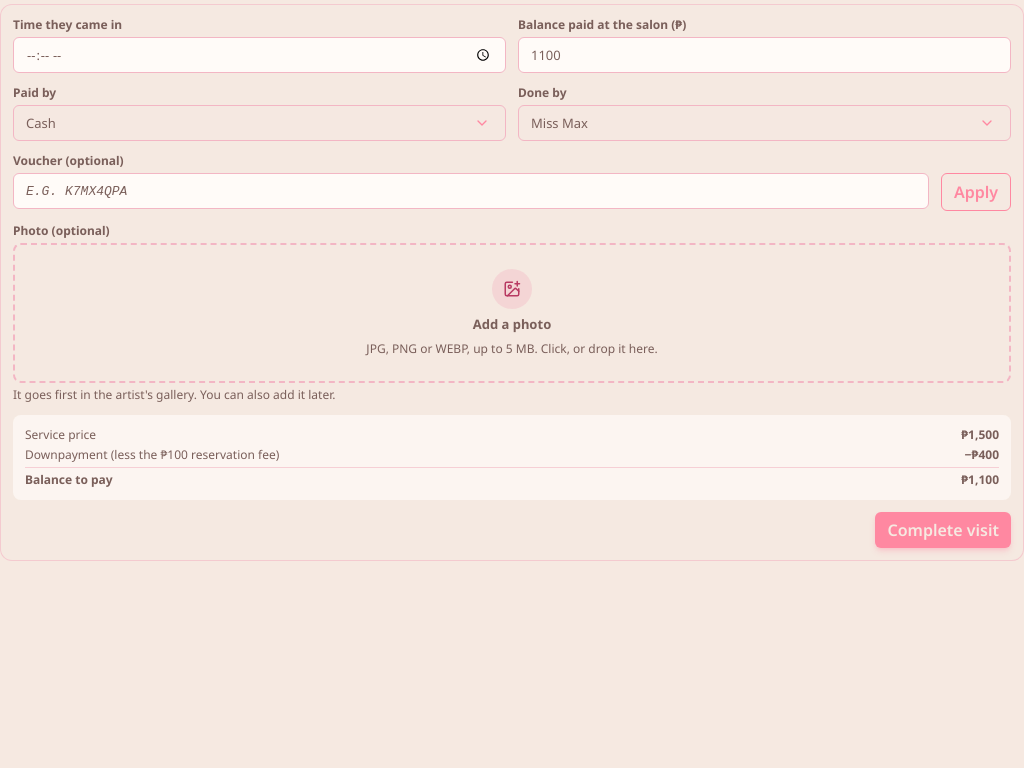
Scenario: the Complete visit form › prefills the balance with the menu price less the downpayment, and lets the admin change it
Replace the text in the field labelled "Balance paid at the salon (₱)" with "1300". click: coordinates (764, 55)
box: left=518, top=37, right=1011, bottom=73
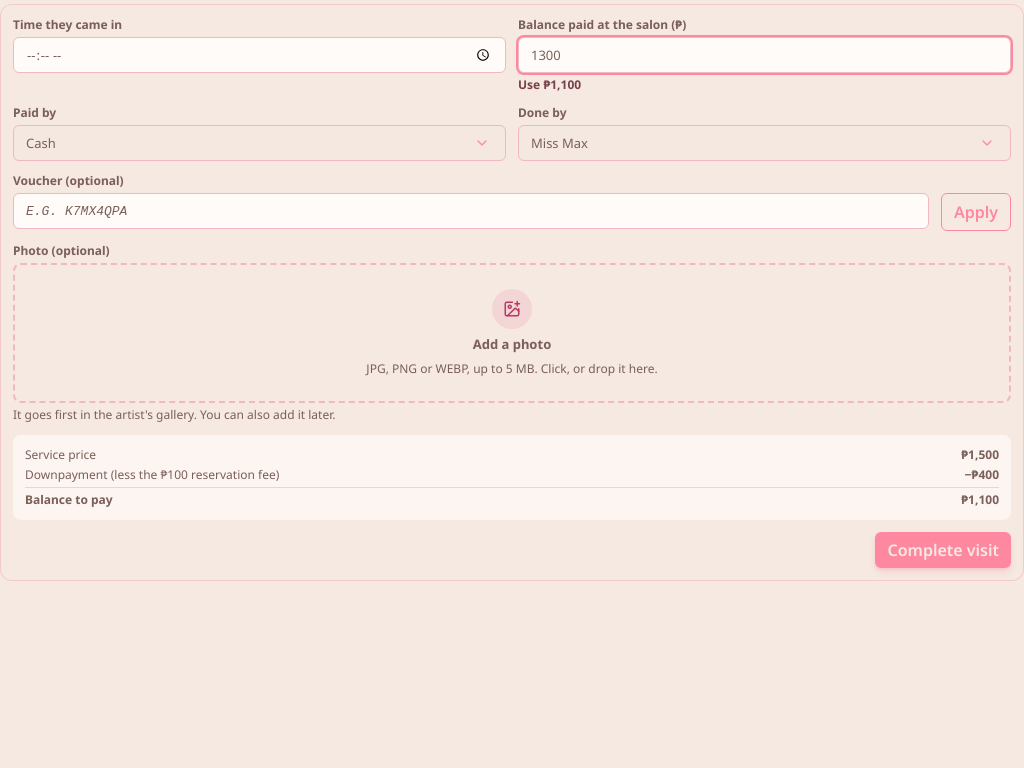
Click the button "Use ₱1,100". click: coordinates (550, 85)
box: left=518, top=77, right=581, bottom=93
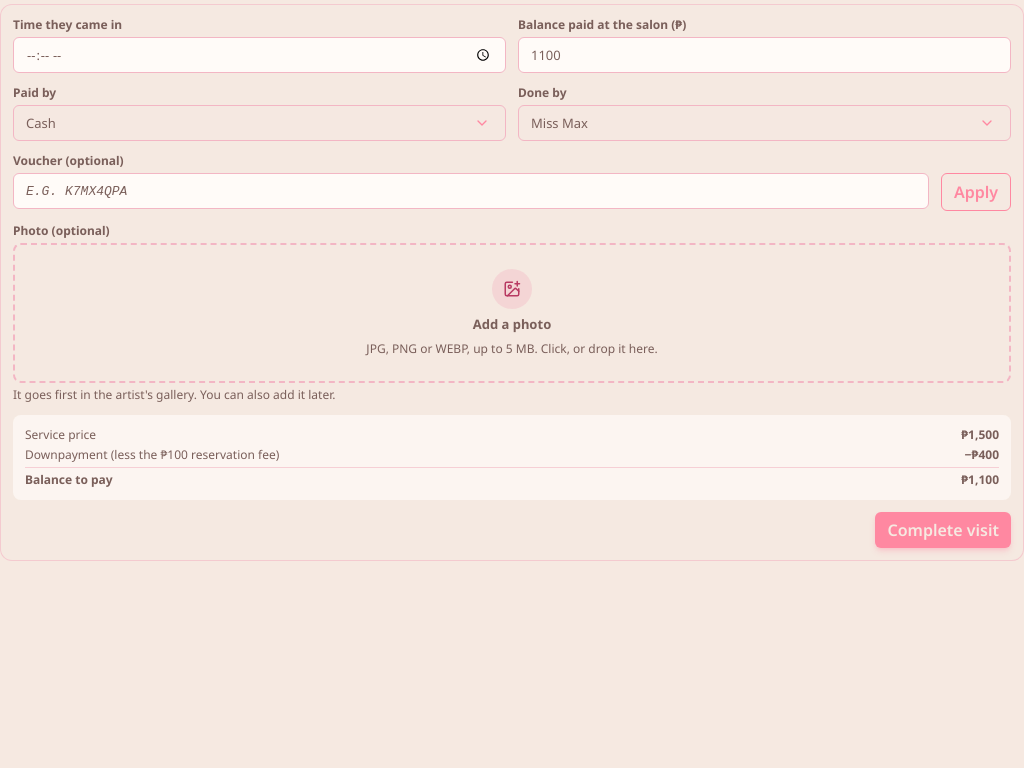
Now the field labelled "Balance paid at the salon (₱)" holds "1100", box left=518, top=37, right=1011, bottom=73
